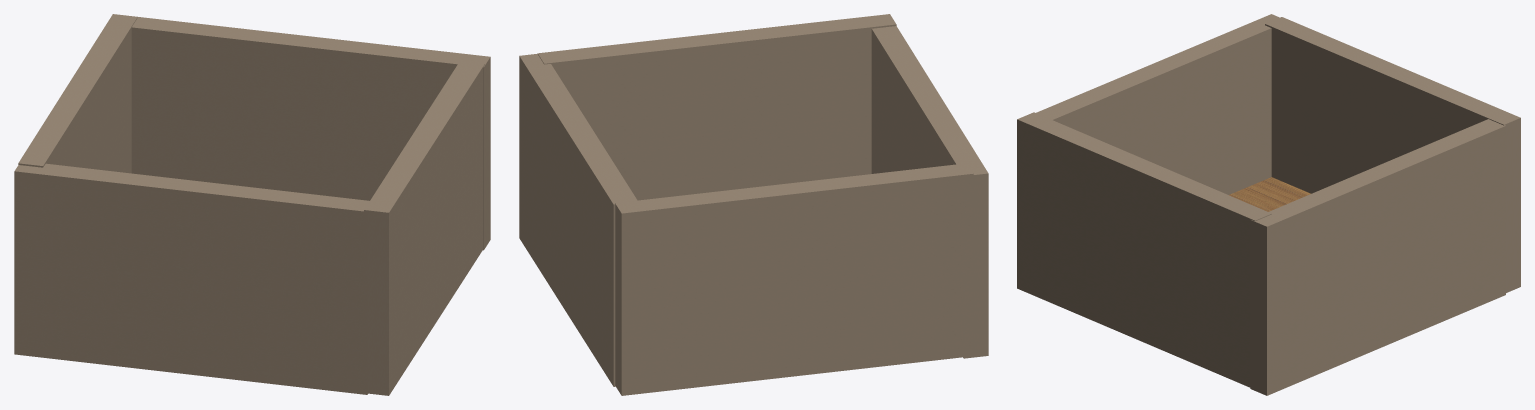
The model's file is room_beige.glb.
3 renders of one model, left to right at view 1: azimuth 30°, elevation 25°; view 2: azimuth 150°, elevation 25°; view 3: azimuth 270°, elevation 25°, orthographic. The views are drawn at different scales.
Parts seen in each view (by area): view 1: SM_FrontWall, SM_RightWall, SM_BackWall, SM_LeftWall; view 2: SM_LeftWall, SM_BackWall, SM_RightWall, SM_FrontWall; view 3: SM_RightWall, SM_BackWall, SM_LeftWall, SM_FrontWall, SM_Floor.
Part boxes in pixels (left/top/right/bottom): SM_FrontWall: left=14, top=163, right=369, bottom=394; SM_RightWall: left=131, top=17, right=490, bottom=250; SM_BackWall: left=364, top=60, right=484, bottom=395; SM_LeftWall: left=18, top=14, right=137, bottom=173; SM_LeftWall: left=615, top=163, right=973, bottom=395; SM_BackWall: left=537, top=14, right=896, bottom=200; SM_RightWall: left=519, top=53, right=637, bottom=386; SM_FrontWall: left=871, top=26, right=988, bottom=358; SM_RightWall: left=1250, top=119, right=1505, bottom=395; SM_BackWall: left=1017, top=112, right=1271, bottom=387; SM_LeftWall: left=1265, top=17, right=1520, bottom=292; SM_FrontWall: left=1036, top=14, right=1279, bottom=194; SM_Floor: left=1229, top=177, right=1310, bottom=211.
Bounding box in the file's own units: 41.21 × 15.35 × 41.09.
Materials: 2 (2 with a texture image).
